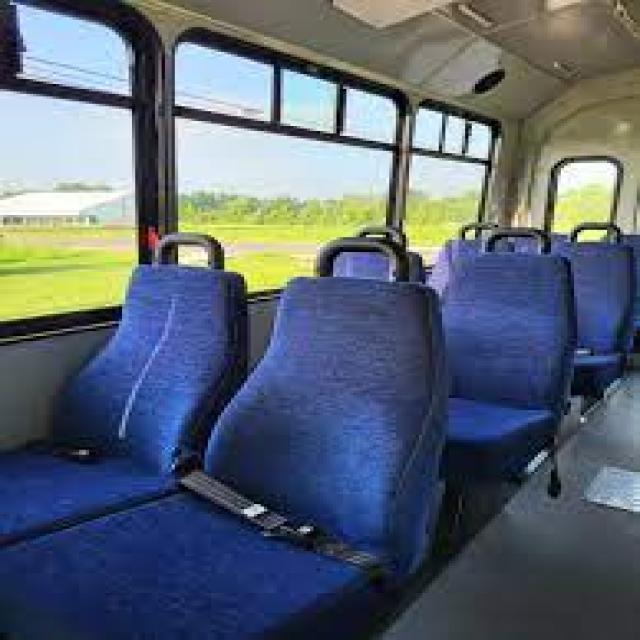empty-seat-frontal: (0, 236, 448, 639), (0, 232, 257, 546), (435, 231, 565, 466)
